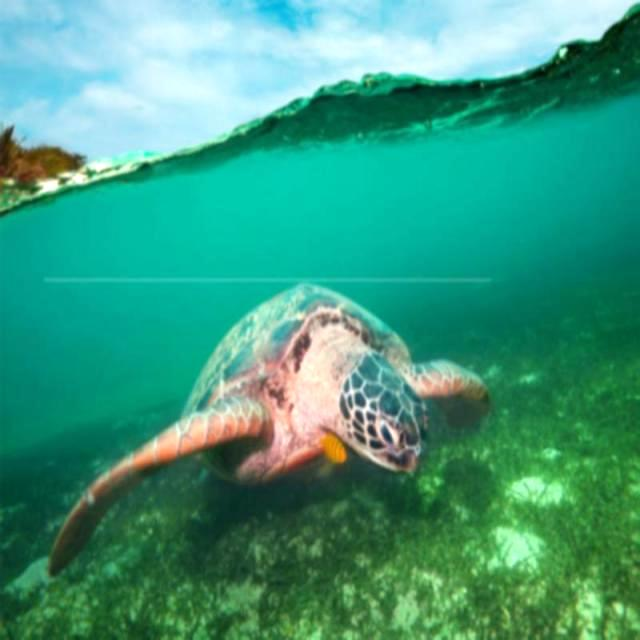Sea turtle: (44, 279, 492, 582)
